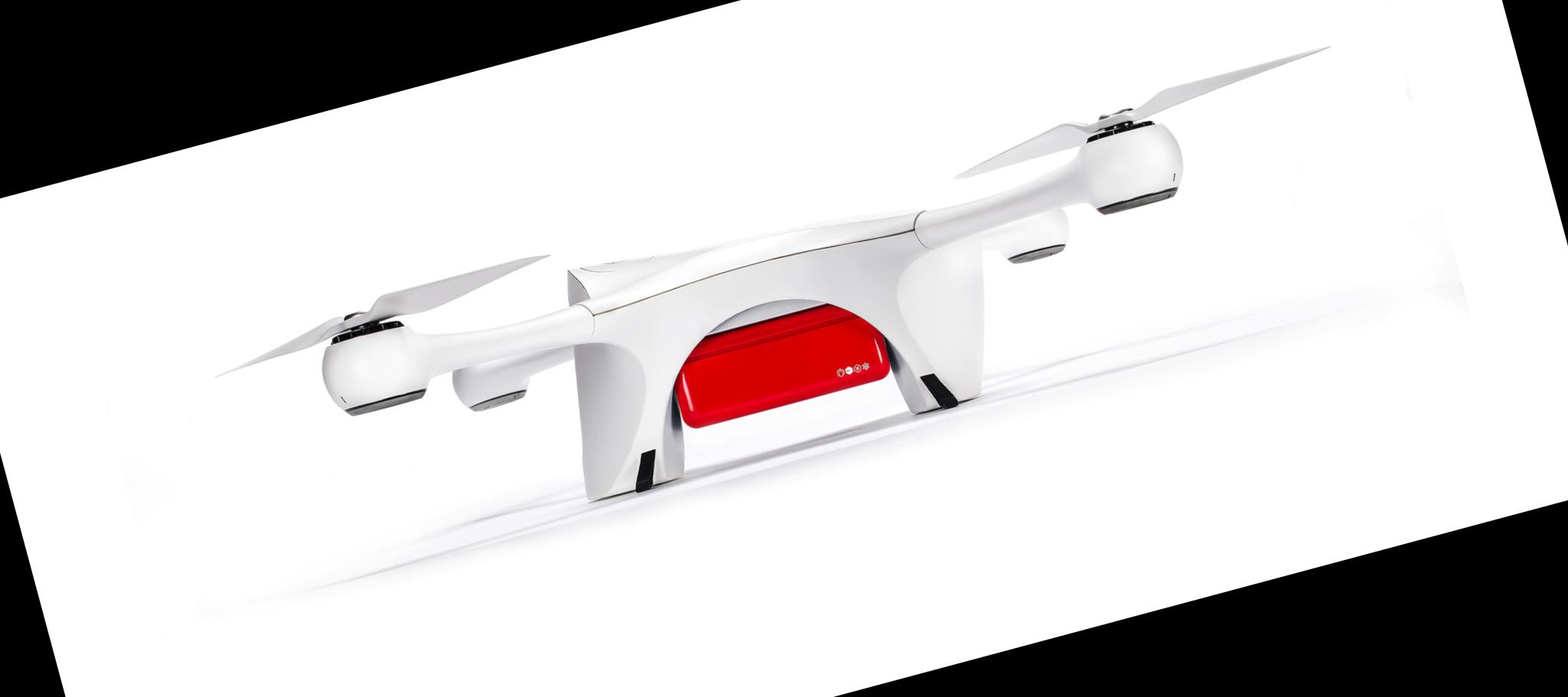drone: (119, 0, 1429, 639)
